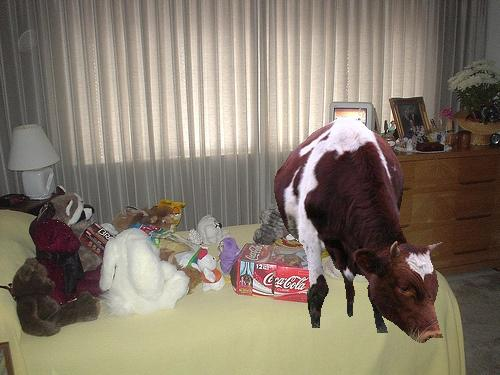tampered: (275, 117, 443, 343)
